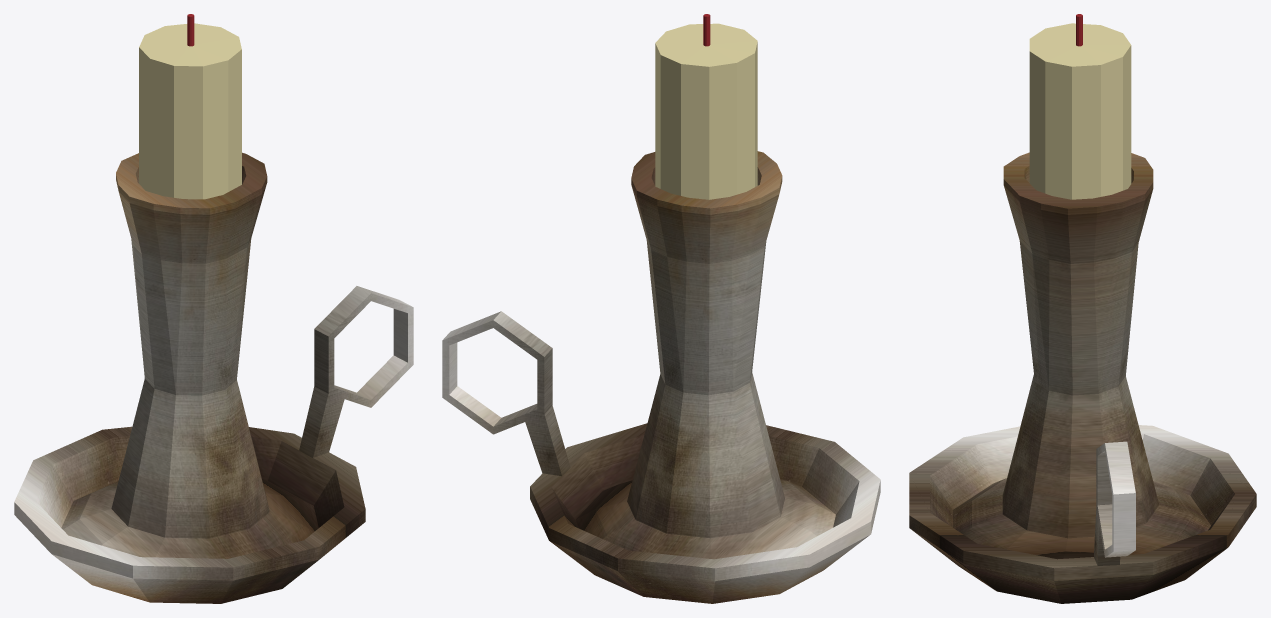
File: vela.gltf
3 renders of one model, left to right at view 1: azimuth 30°, elevation 25°; view 2: azimuth 150°, elevation 25°; view 3: azimuth 270°, elevation 25°, orthographic.
Visible parts, largest first — view 1: Circle, Circle.001; view 2: Circle, Circle.001; view 3: Circle, Circle.001.
Boxes of the visible parts, left/top/right/bottom form: Circle: left=14, top=152, right=413, bottom=603; Circle.001: left=139, top=14, right=241, bottom=199; Circle: left=442, top=151, right=880, bottom=603; Circle.001: left=655, top=14, right=757, bottom=199; Circle: left=909, top=152, right=1256, bottom=603; Circle.001: left=1029, top=14, right=1131, bottom=199.
Size of the model in its own units: 2.77 by 3.62 by 2.13.
3 materials, 1 textured.
